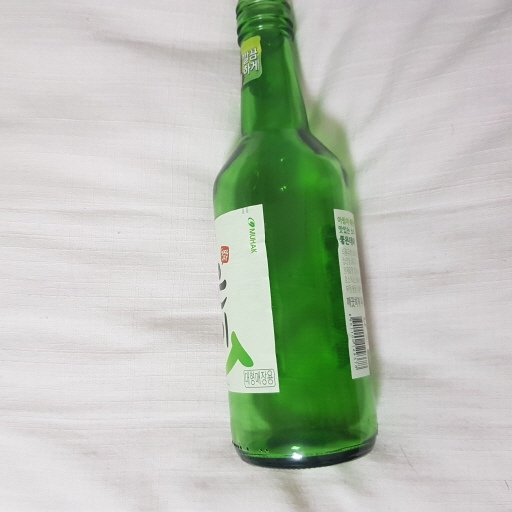Glass_0: (209, 1, 382, 473)
